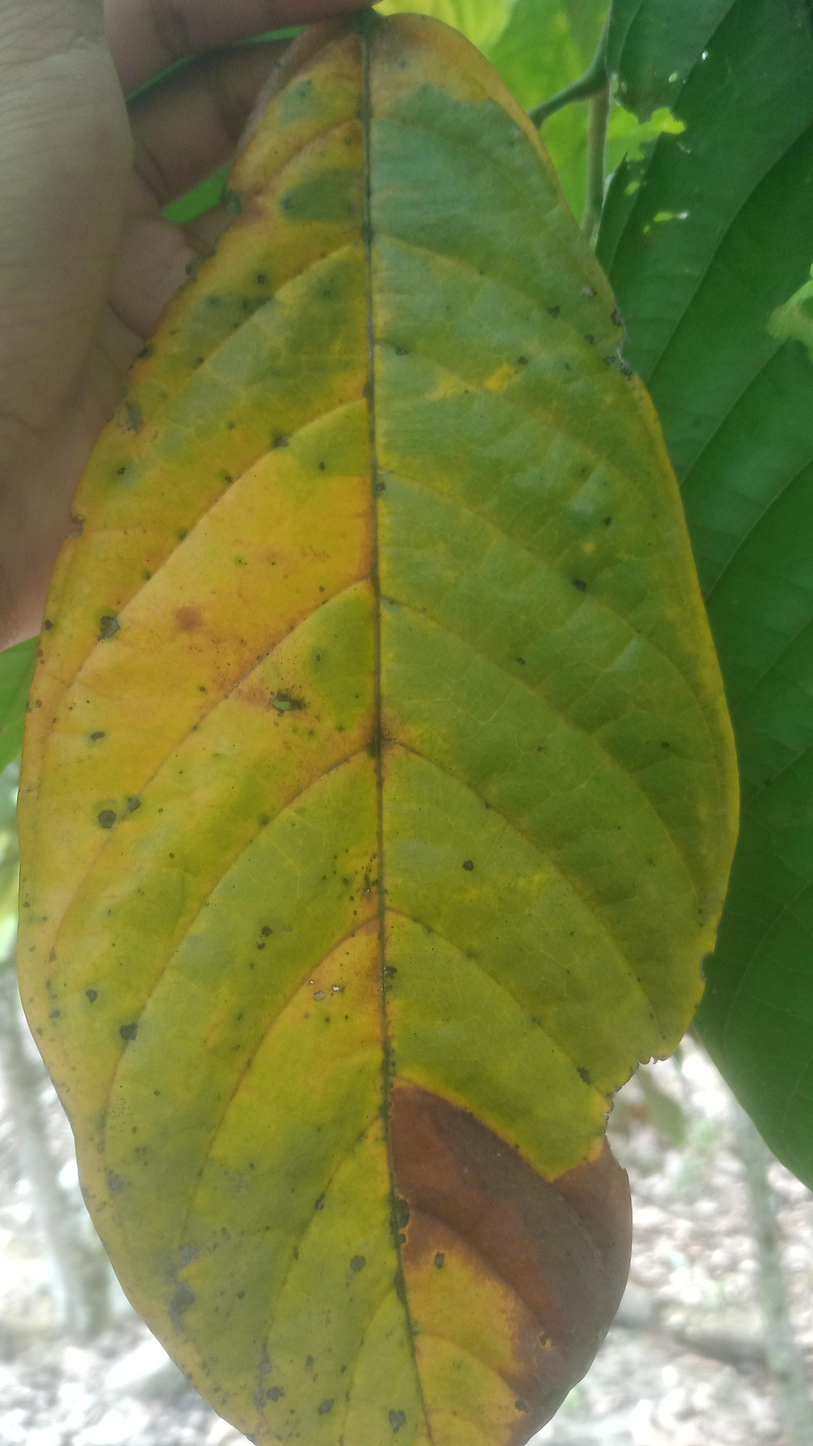deficiencia_potasio: (8, 11, 737, 1446)
